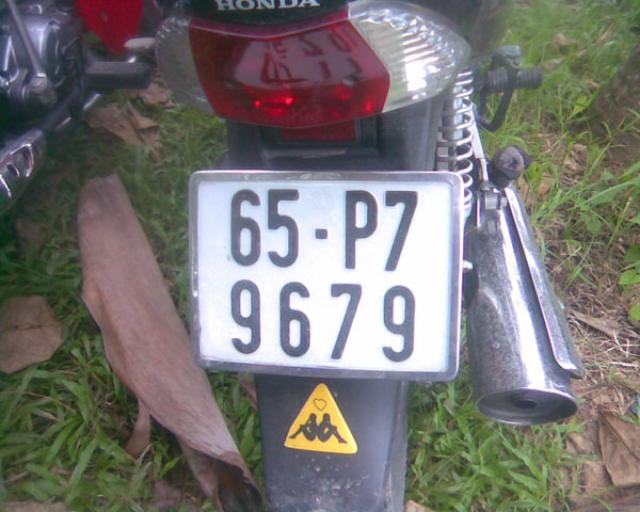plate: (188, 166, 472, 382)
